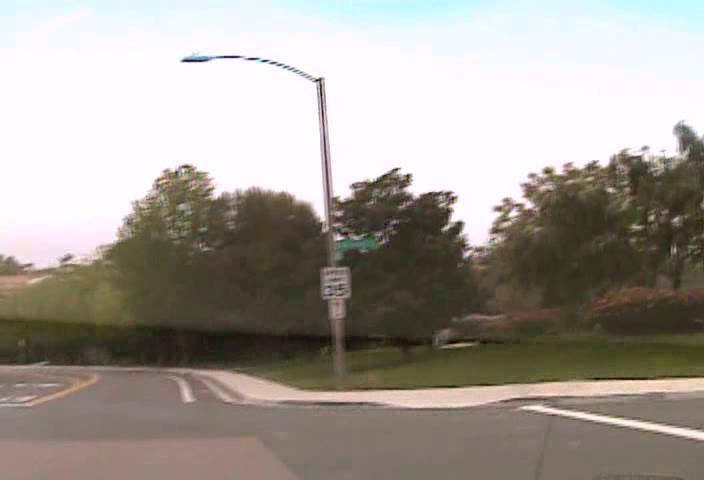speedLimit35: (320, 265, 351, 300)
